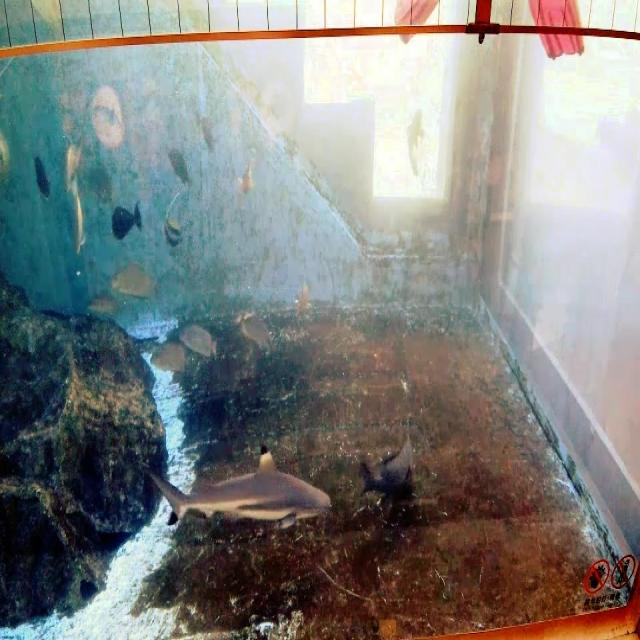angelfish: (155, 181, 189, 255)
gold snapper: (173, 309, 226, 371), (230, 302, 282, 361), (107, 251, 161, 307), (146, 333, 190, 377), (68, 178, 88, 270), (59, 133, 85, 200), (84, 282, 129, 319)
other black fish: (350, 410, 434, 519), (105, 190, 151, 250), (28, 147, 58, 213)
shark: (138, 434, 346, 552)
